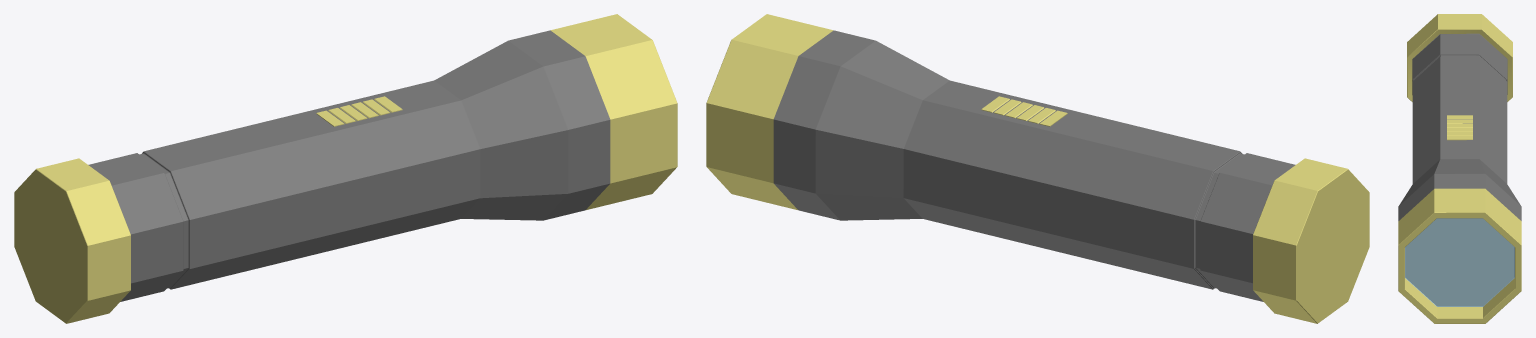
The model's file is Flashlight.fbx.
3 renders of one model, left to right at view 1: azimuth 30°, elevation 25°; view 2: azimuth 150°, elevation 25°; view 3: azimuth 270°, elevation 25°, orthographic. The views are drawn at different scales.
Parts seen in each view (by area): view 1: pCylinder1, pCube1; view 2: pCylinder1, pCube1; view 3: pCylinder1, pCube1.
Boxes of the visible parts, left/top/right/bottom form: pCylinder1: left=14, top=14, right=677, bottom=323; pCube1: left=316, top=96, right=402, bottom=126; pCylinder1: left=706, top=14, right=1369, bottom=323; pCube1: left=981, top=96, right=1067, bottom=126; pCylinder1: left=1398, top=14, right=1521, bottom=323; pCube1: left=1447, top=115, right=1472, bottom=140.
Bounding box in the file's own units: 14.44 × 3.64 × 3.64.
